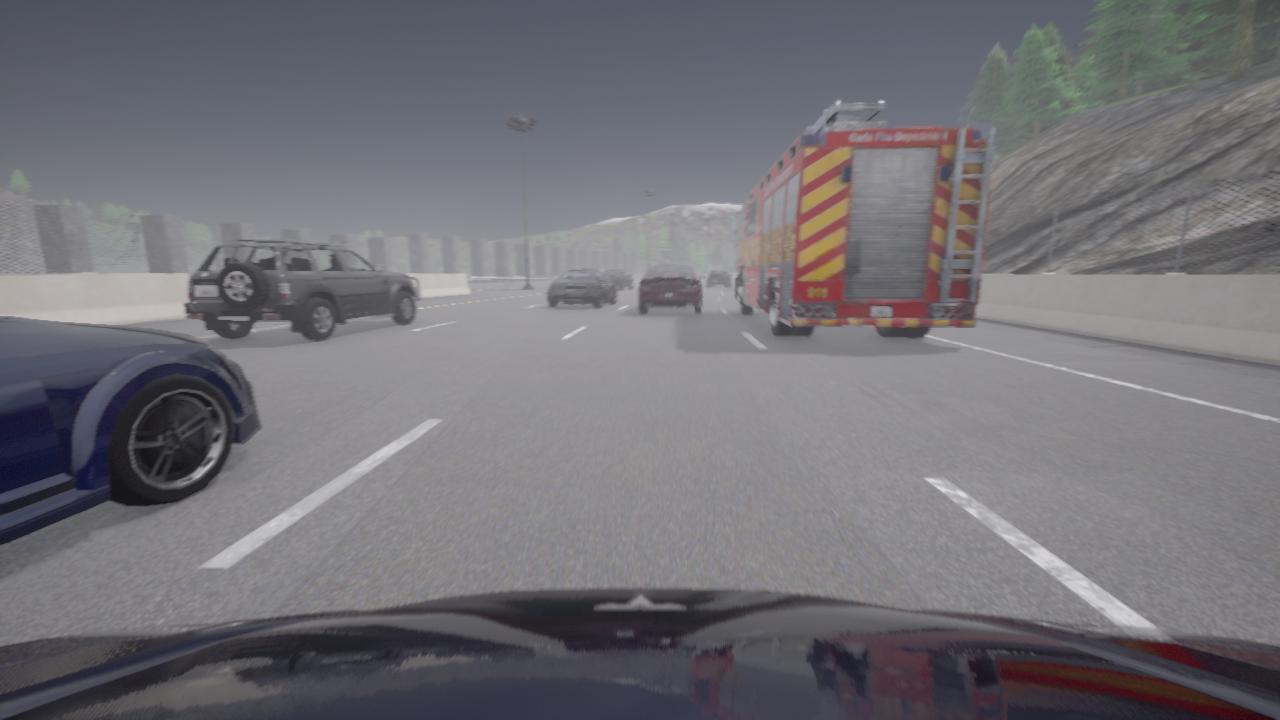cyclist: (0, 588, 1279, 719), (728, 99, 995, 337), (183, 238, 420, 339), (639, 263, 704, 313), (546, 269, 616, 307), (602, 269, 632, 288), (707, 270, 731, 286), (735, 273, 736, 276)
